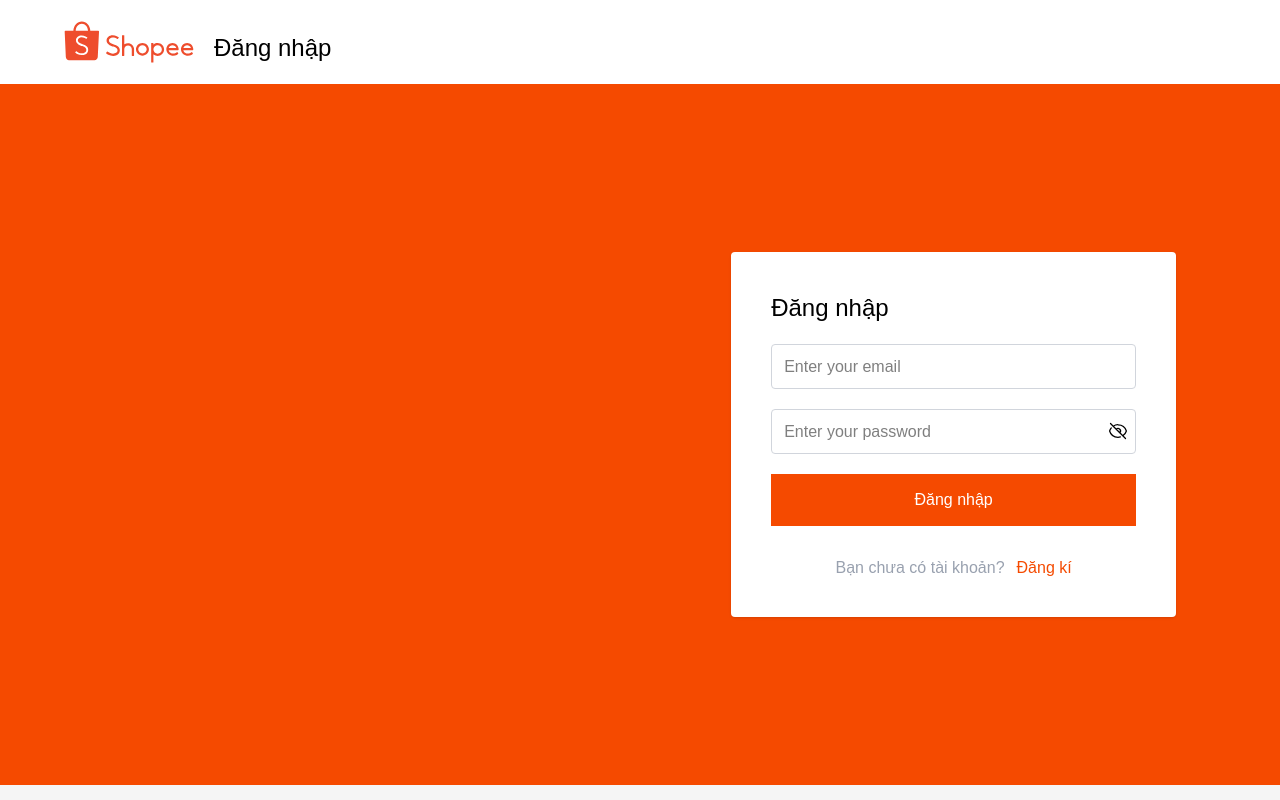
Scenario: Test Login Page › Display required error when nothing is entered
The image size is (1280, 800).
Step 1. Click the submit button → click(954, 500), box [771,474,1136,526]
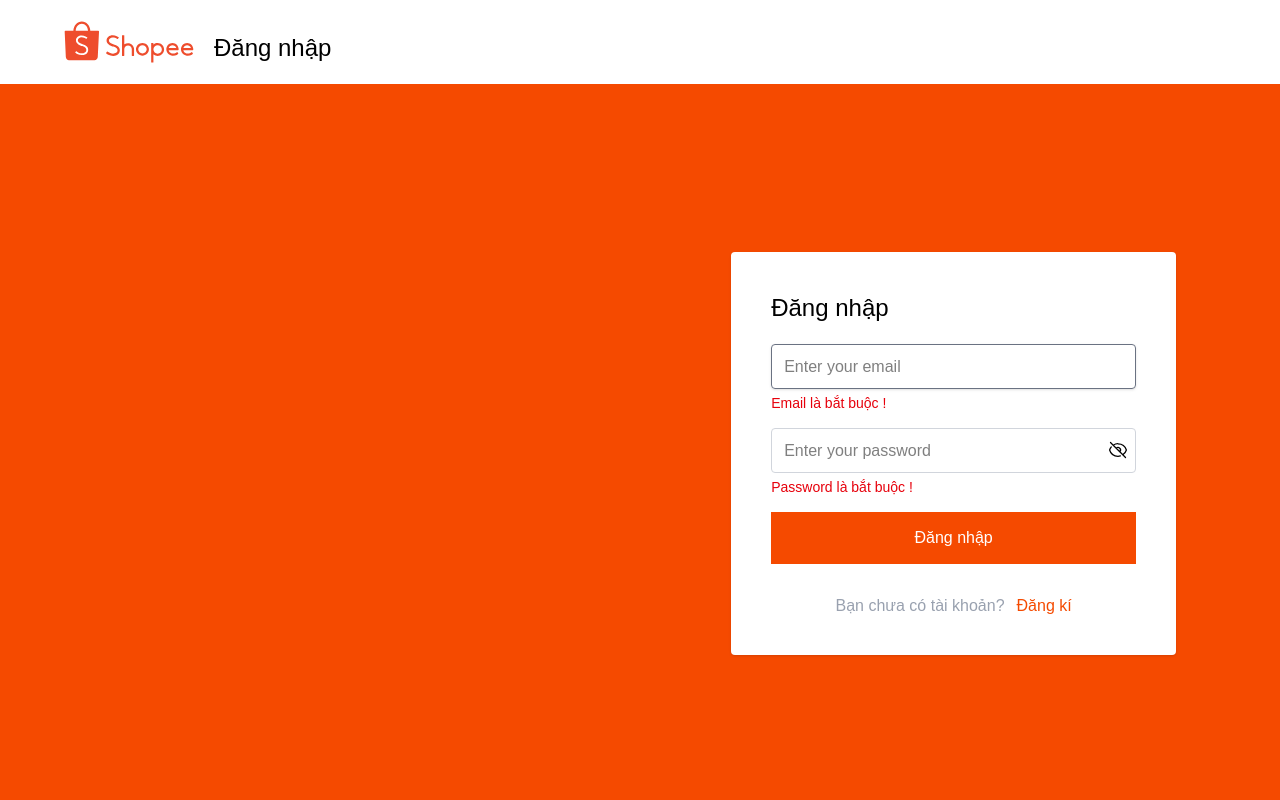
Result: the text "Email là bắt buộc !" is shown at [771,395,886,411]
Result: the text "Password là bắt buộc !" is shown at [771,479,913,495]
